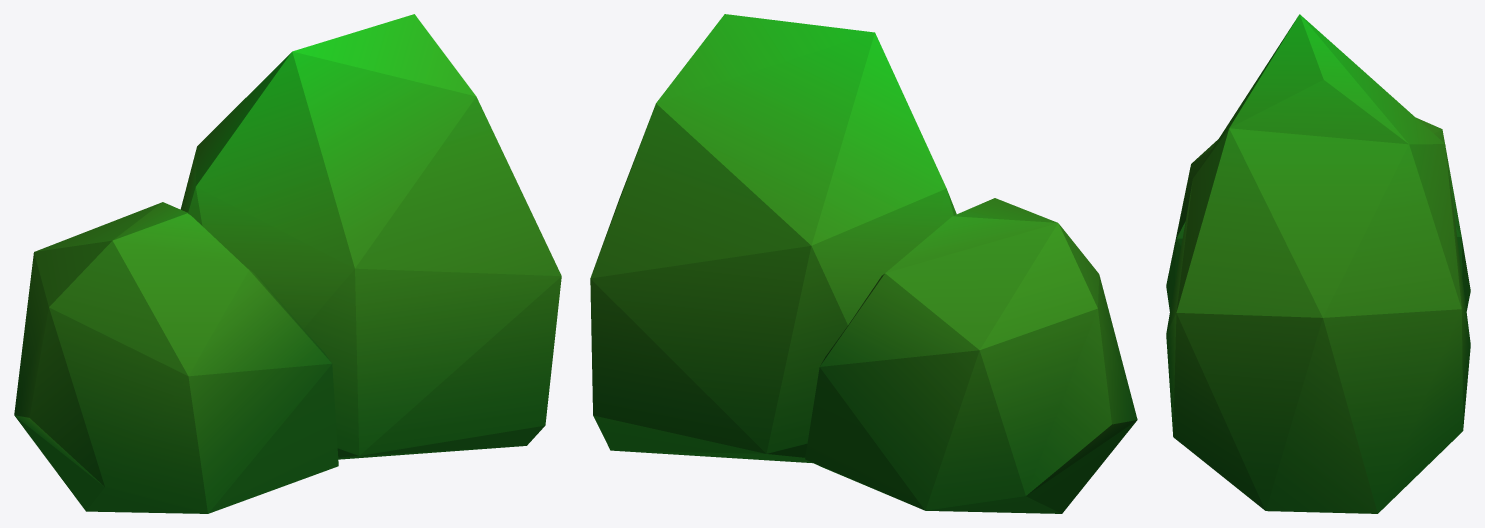
File: twoBushes.FBX
3 renders of one model, left to right at view 1: azimuth 30°, elevation 25°; view 2: azimuth 150°, elevation 25°; view 3: azimuth 270°, elevation 25°, orthographic. The views are drawn at different scales.
Visible parts, largest first — view 1: GeoSphere007; view 2: GeoSphere007; view 3: GeoSphere007.
Boxes of the visible parts, x1,y1,x2,y2 form: GeoSphere007: (14, 14, 561, 513); GeoSphere007: (590, 14, 1137, 513); GeoSphere007: (1166, 14, 1470, 513).
Bounding box in the file's own units: 110 × 93.75 × 64.48.
